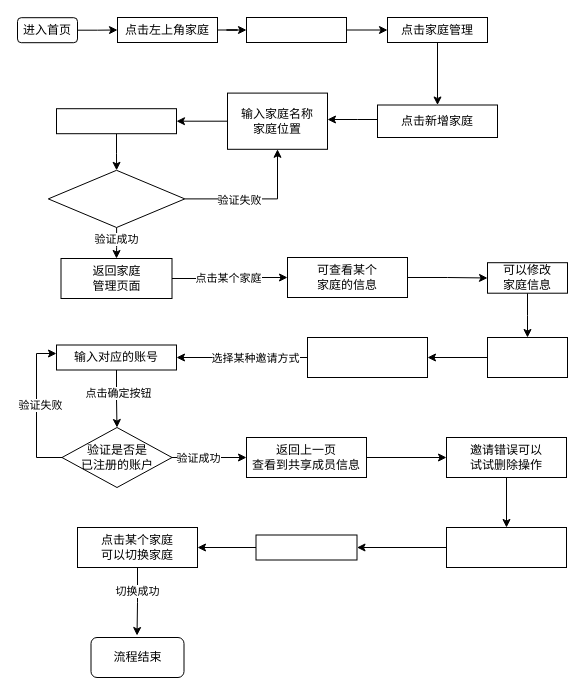
Some shapes in this 585 by 695 pixel diagram are drawn without their labels. Here are the shapes that lost their labels. From the top down, the box of each, then its label:
(246, 16, 346, 42): 进入切换家庭列表
(56, 108, 176, 134): 点击保存
(47, 169, 185, 228): 验证家庭信息 是否完整
(306, 336, 428, 378): 可以通过手机号 邮箱邀请
(486, 336, 568, 378): 点击家庭共享跳转邀请页面
(255, 534, 357, 560): 返回切换家庭页面
(446, 526, 566, 568): 添加家庭信息 可以删除重新添加
